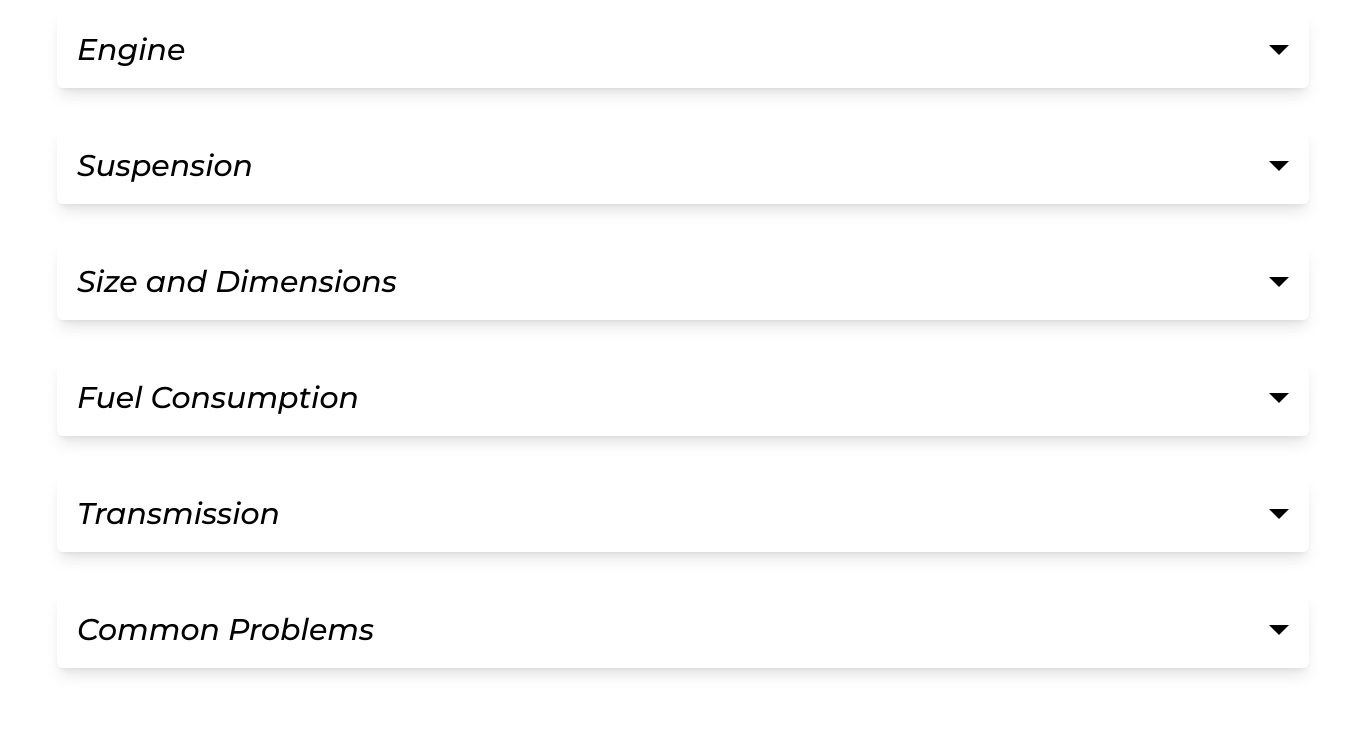
Scenario: <CarSpecs /> Component › should close when button is clicked
Click the button "Engine".
click(131, 50)  # box [57,12,1309,88]
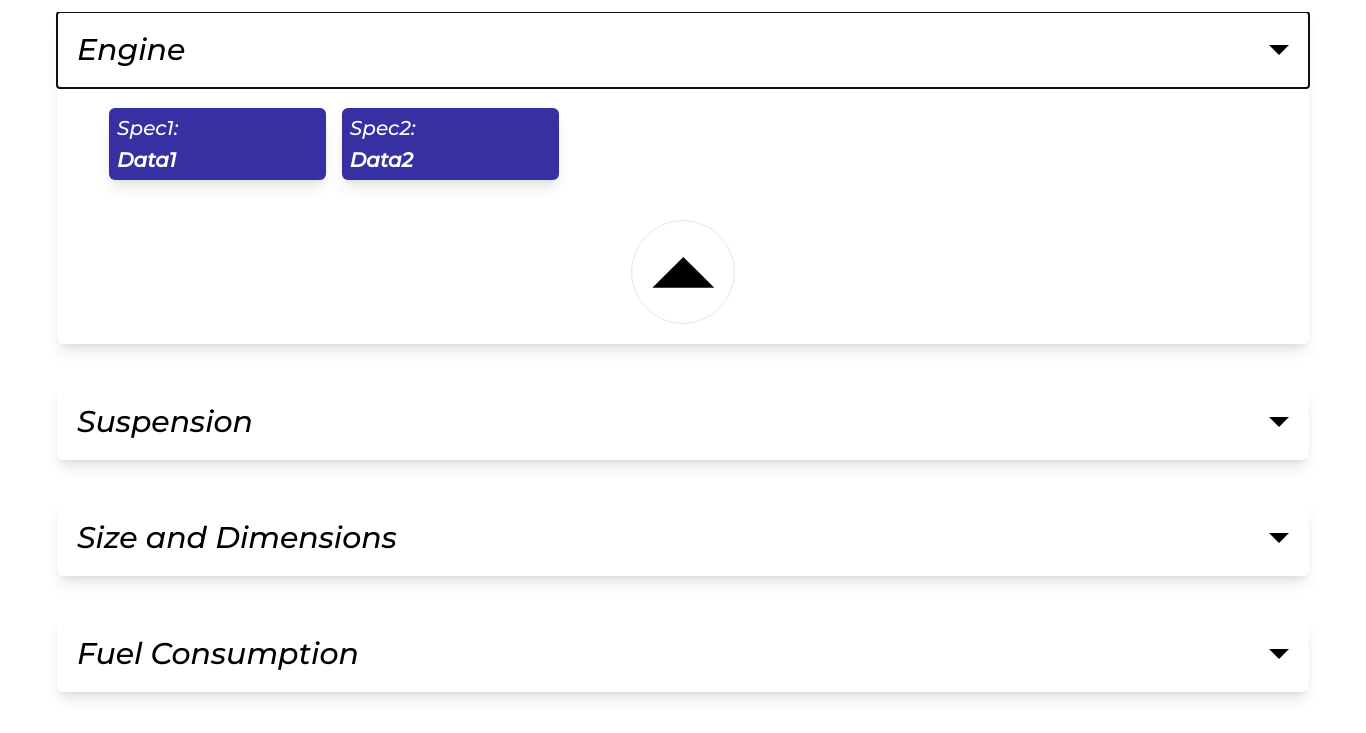
Now the text "Data1" is shown, box [117,148,176,172]
Click the button "Engine".
click(131, 50)  # box [57,12,1309,88]
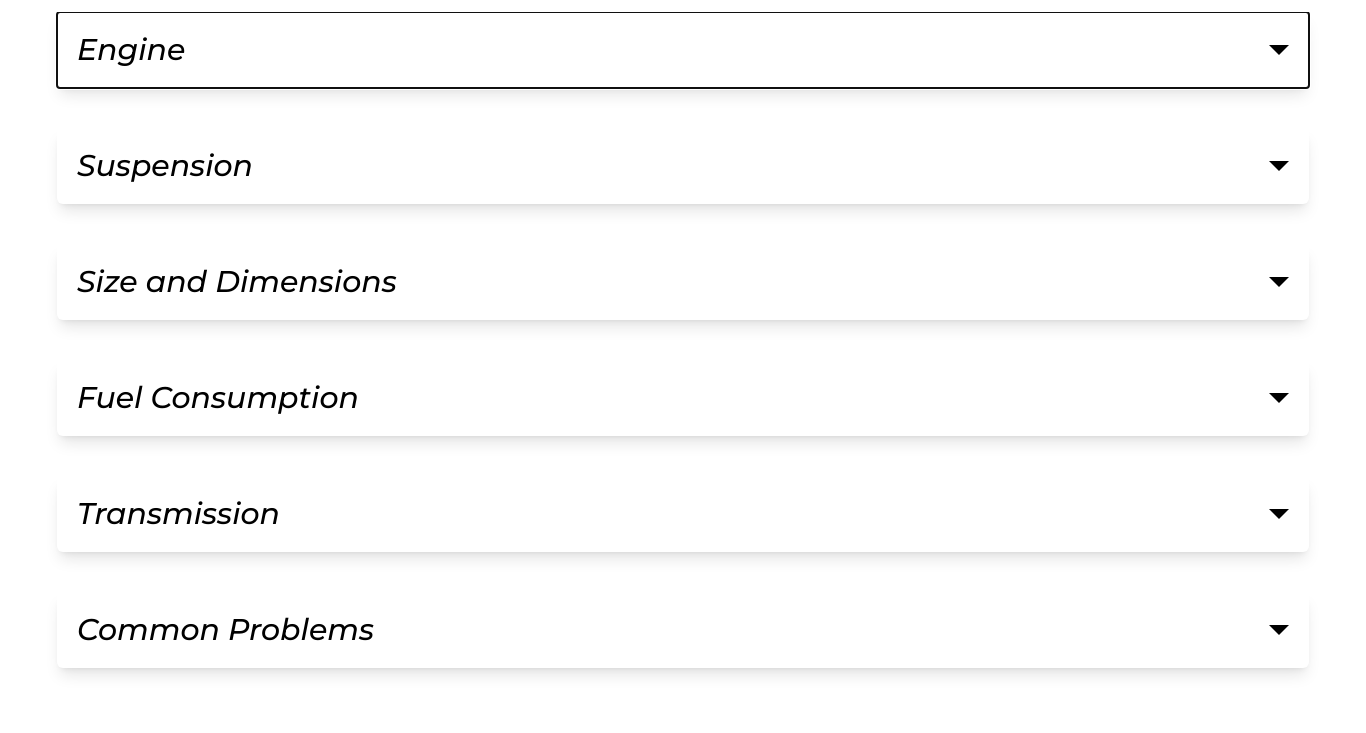
Now the text "Data1" is gone
